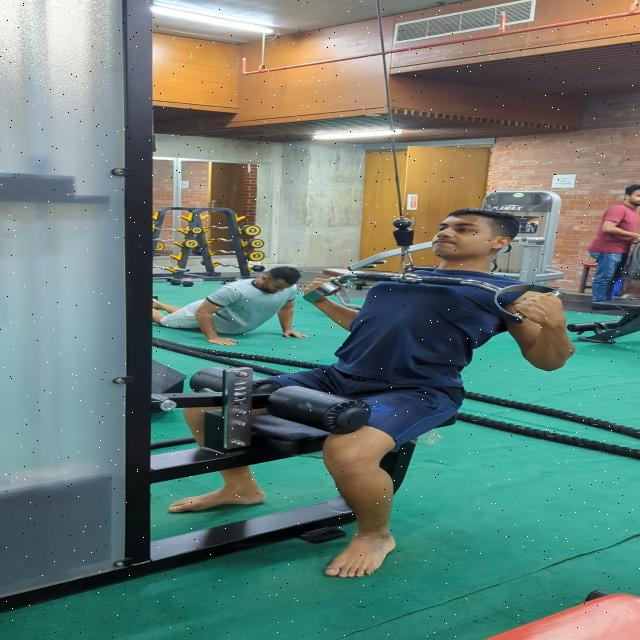Normal_LatPulldown: (172, 195, 584, 587)
